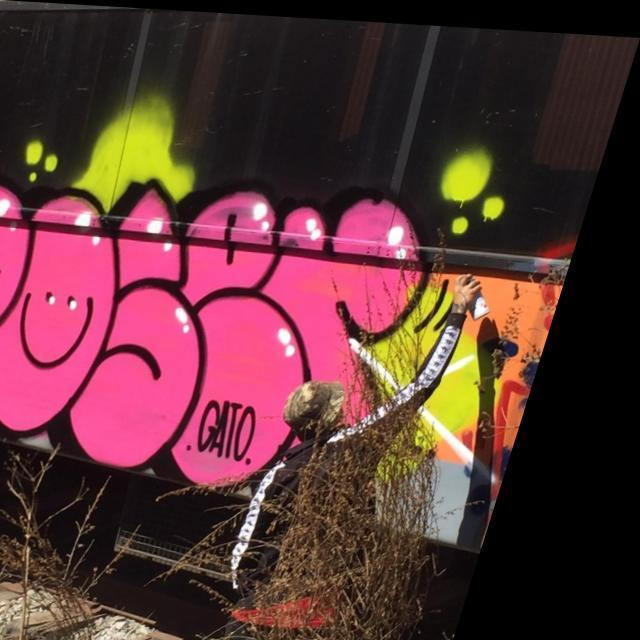-: (0, 130, 523, 520)
